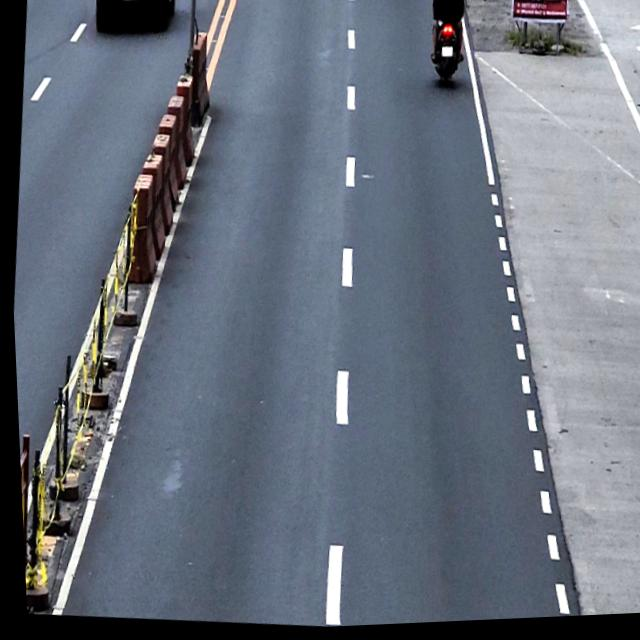Car: (91, 0, 178, 37)
License-Plate: (439, 50, 452, 62), (120, 0, 138, 3)
Motorcycle: (424, 0, 469, 92)
